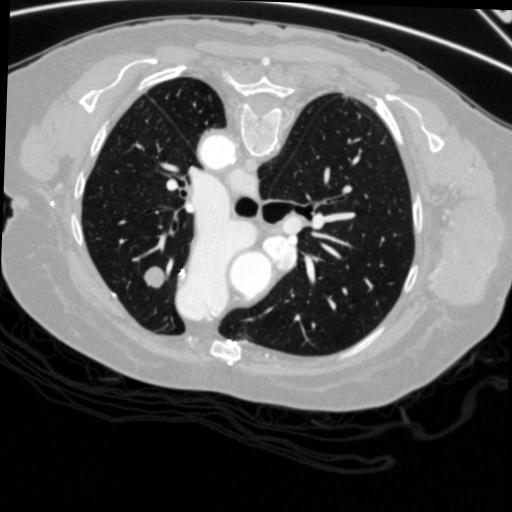nodule: (143, 264, 169, 290)
